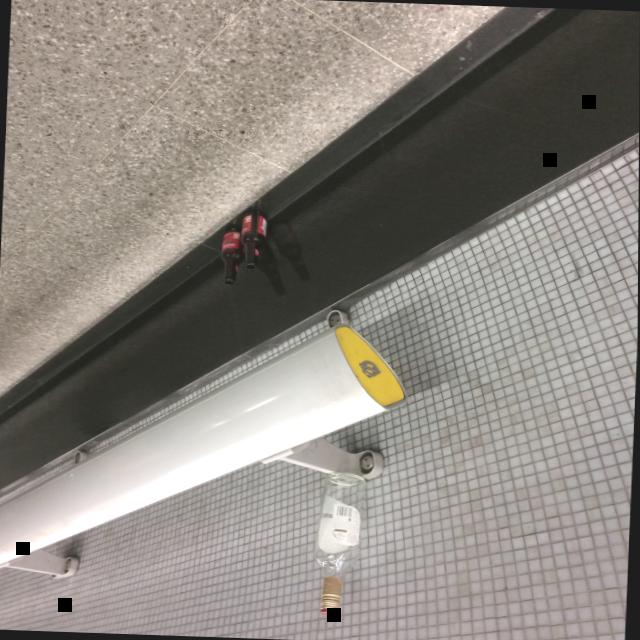Glass bottle: (315, 472, 366, 615), (241, 210, 267, 269), (221, 227, 245, 285)
